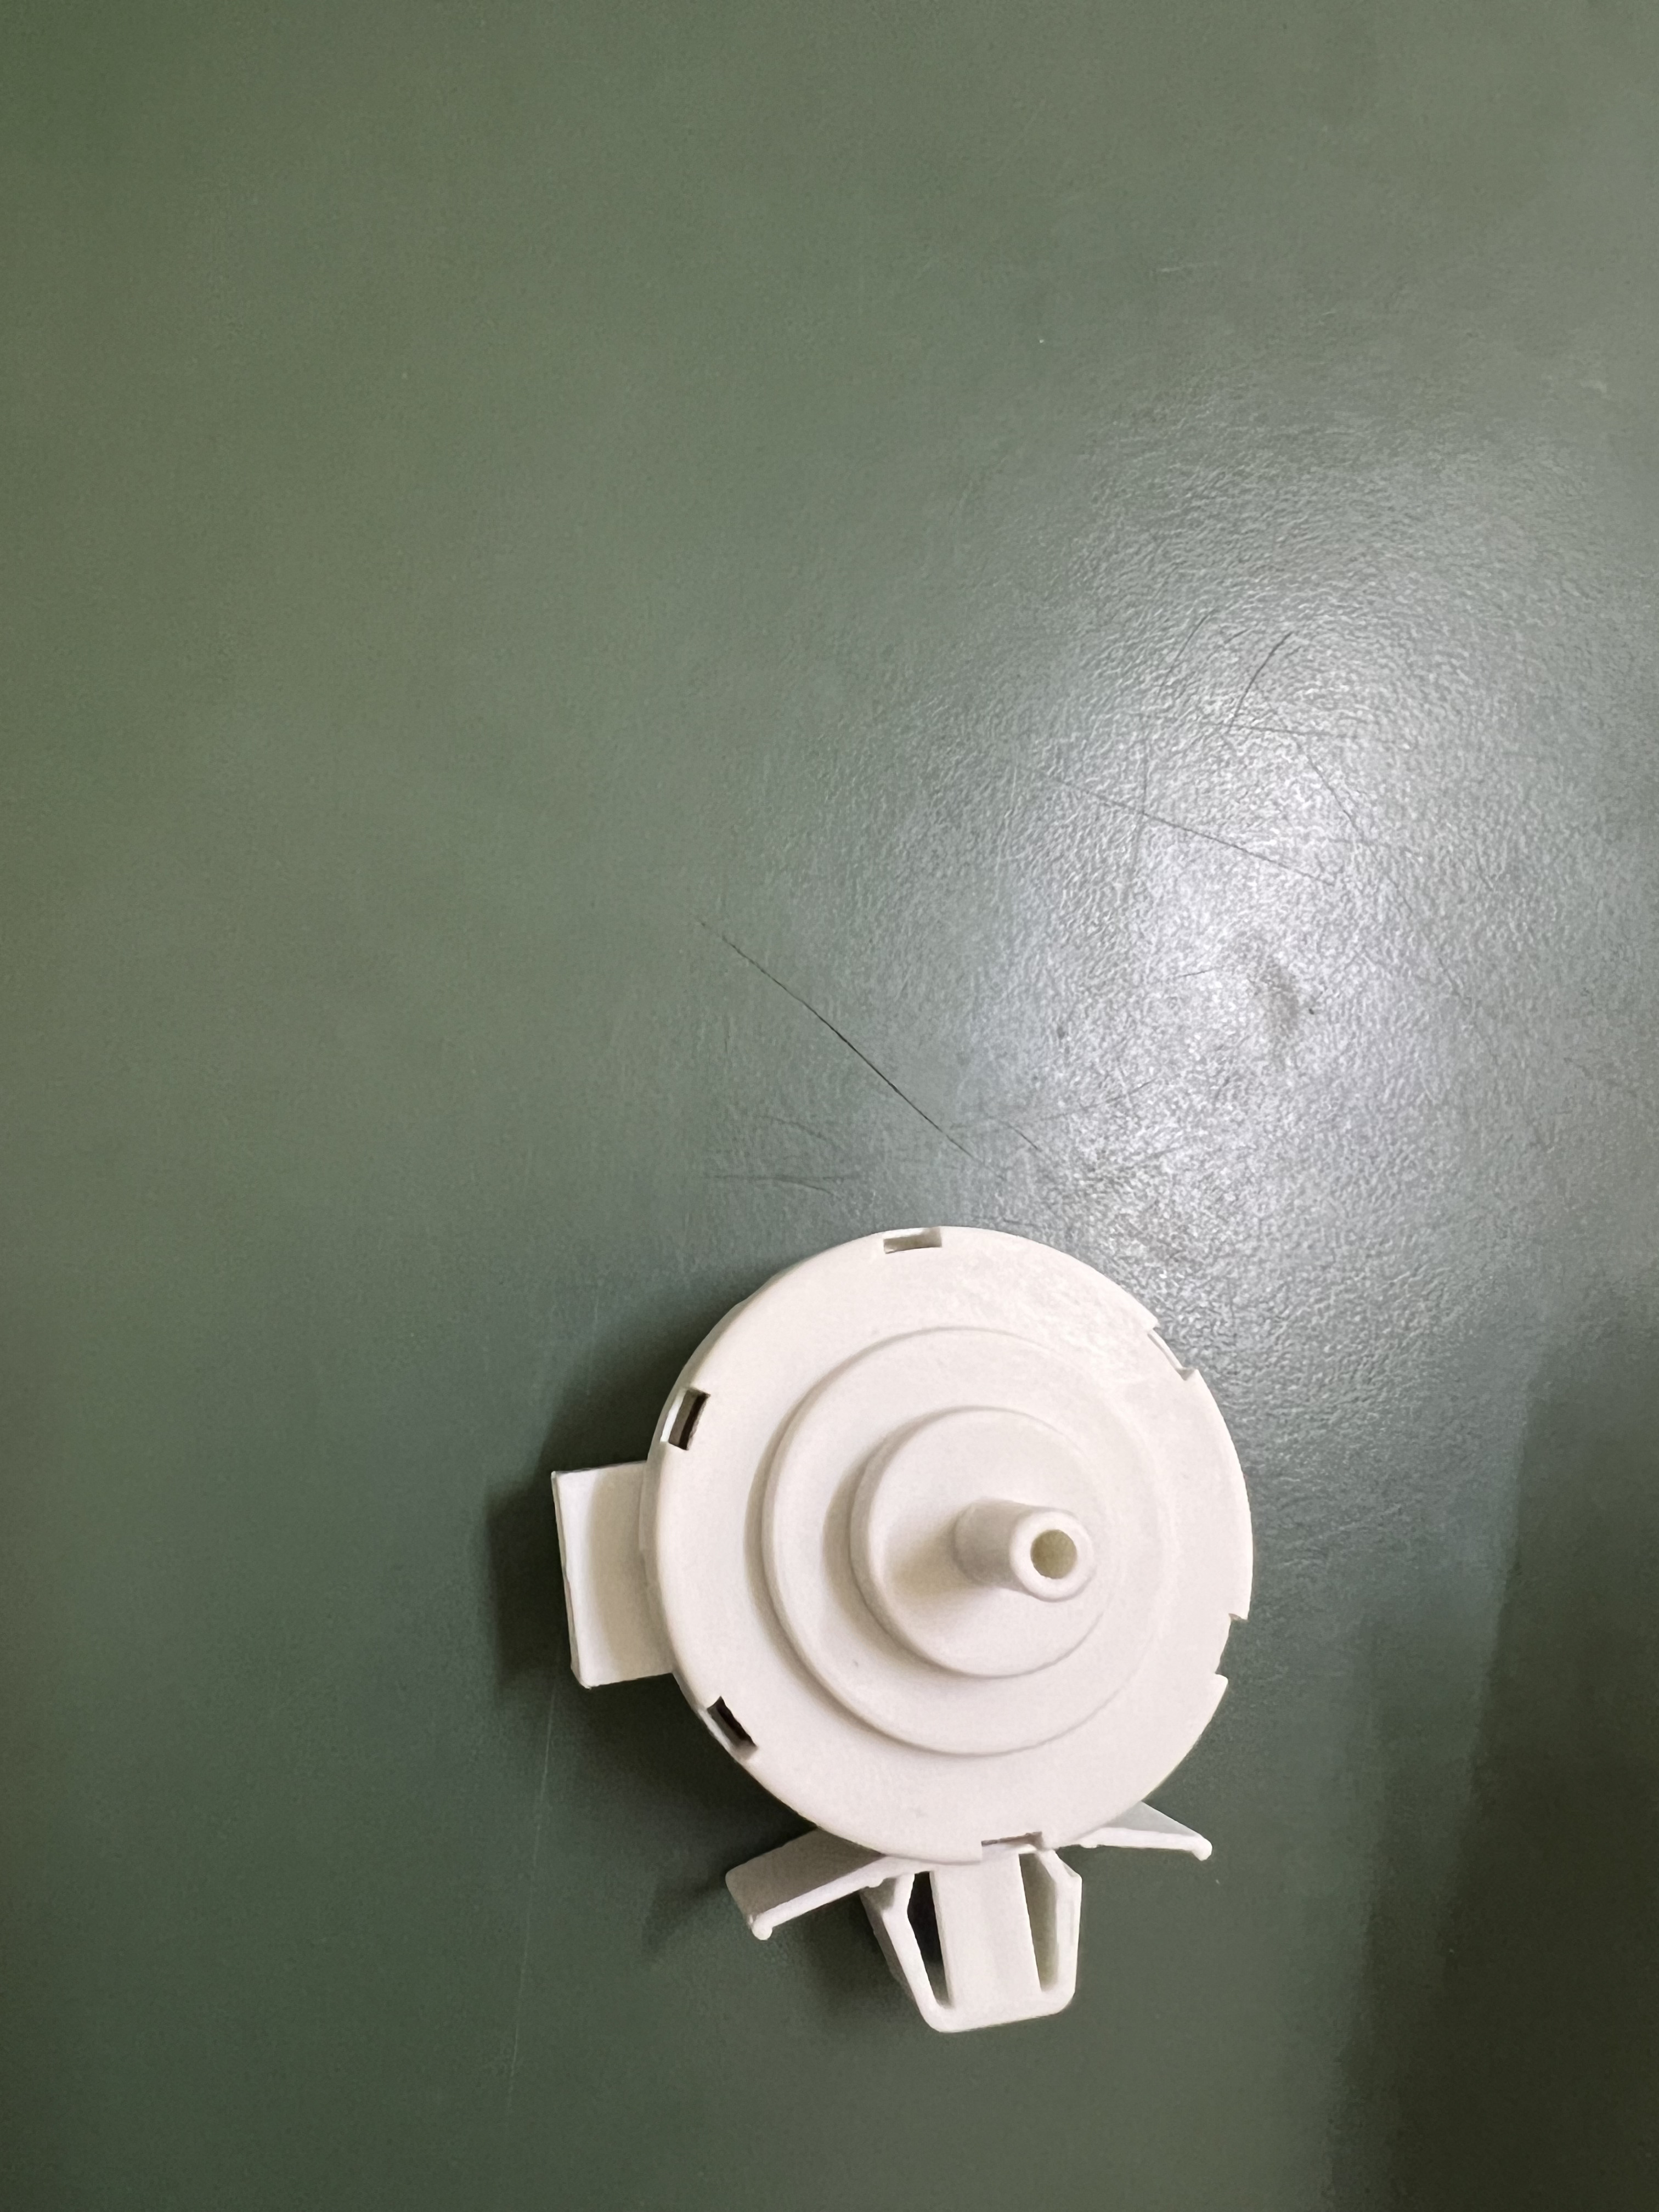pressure_switch_2: (504, 1231, 1270, 2057)
